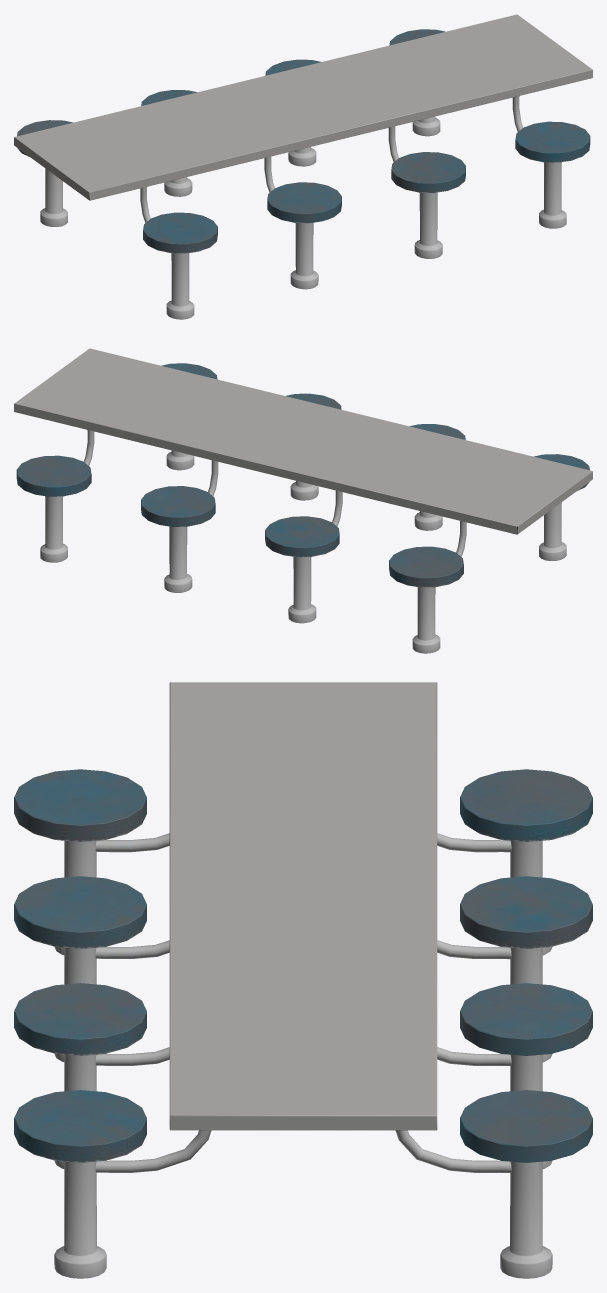
File: prison_table.glb
The picture shows the model from 3 angles, top to bottom: view 1: azimuth 30°, elevation 25°; view 2: azimuth 150°, elevation 25°; view 3: azimuth 270°, elevation 25°; orthographic projection. The views are drawn at different scales.
Parts seen in each view (by area): view 1: Cylinder.003; view 2: Cylinder.003; view 3: Cylinder.003.
Part boxes in pixels (x1,y1,x2,y2): Cylinder.003: (14,14,592,319); Cylinder.003: (14,348,592,653); Cylinder.003: (14,682,592,1278).
Size of the model in its own units: 768 by 173 by 433.
Materials: 1 (1 with a texture image).
